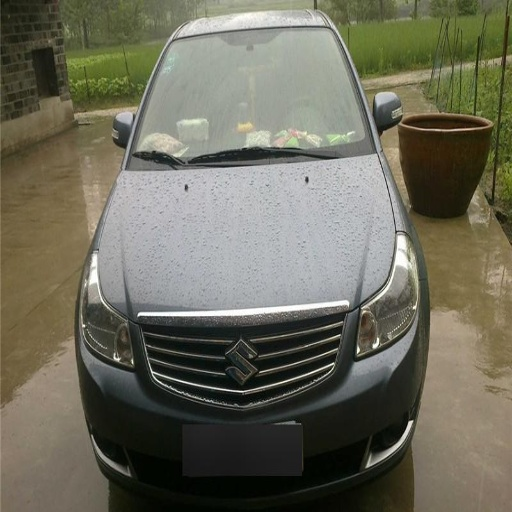front_bumper: (80, 307, 416, 511)
front_right_light: (79, 253, 135, 369)
hood: (98, 153, 395, 396)
